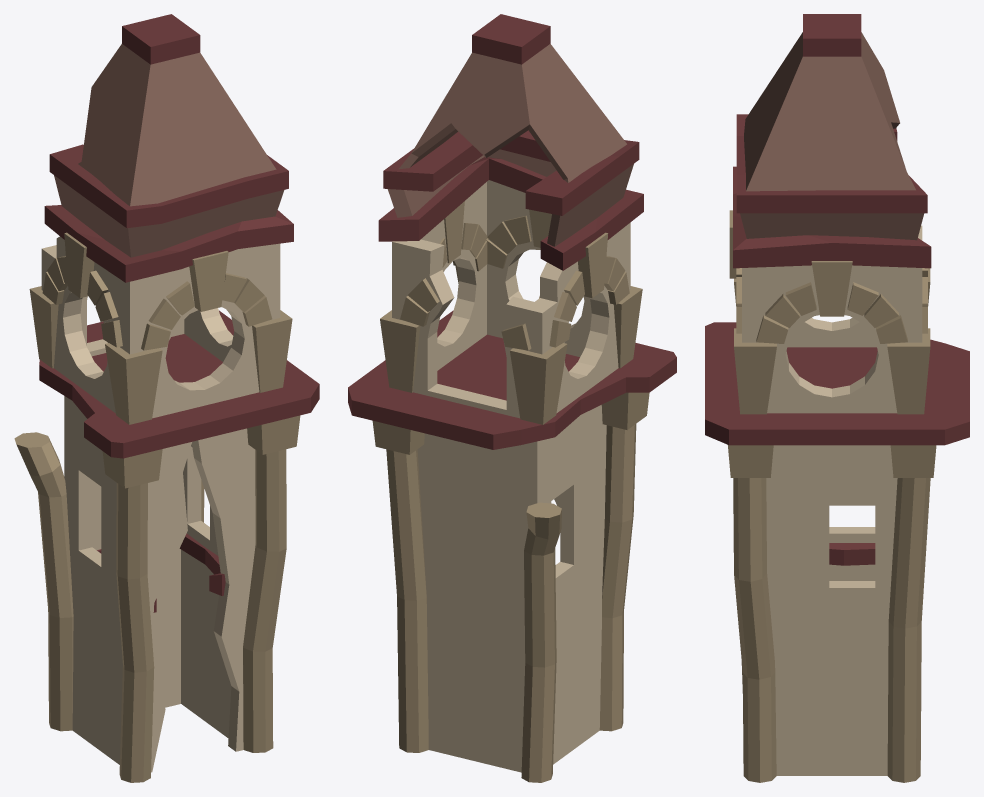
The model's file is LightSandStoneBuildingLargeClockTower1.fbx.
3 views of the same model, side by side, from view 1: azimuth 30°, elevation 25°; view 2: azimuth 150°, elevation 25°; view 3: azimuth 270°, elevation 25° (orthographic). The views are drawn at different scales.
Parts seen in each view (by area): view 1: LightSandStoneBuildingLargeClockTower1; view 2: LightSandStoneBuildingLargeClockTower1; view 3: LightSandStoneBuildingLargeClockTower1.
Boxes of the visible parts, box(x1,y1,x2,y2) form: LightSandStoneBuildingLargeClockTower1: box(14, 14, 319, 782); LightSandStoneBuildingLargeClockTower1: box(348, 14, 676, 782); LightSandStoneBuildingLargeClockTower1: box(705, 14, 969, 782).
Size of the model in its own units: 1059 by 3306 by 1103.
